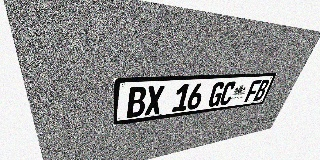1: (172, 84, 192, 112)
6: (186, 83, 205, 110)
B: (127, 86, 147, 118), (253, 79, 270, 101)
C: (218, 81, 237, 106)
F: (244, 80, 262, 102)
G: (207, 82, 226, 107)
X: (144, 85, 165, 116)
